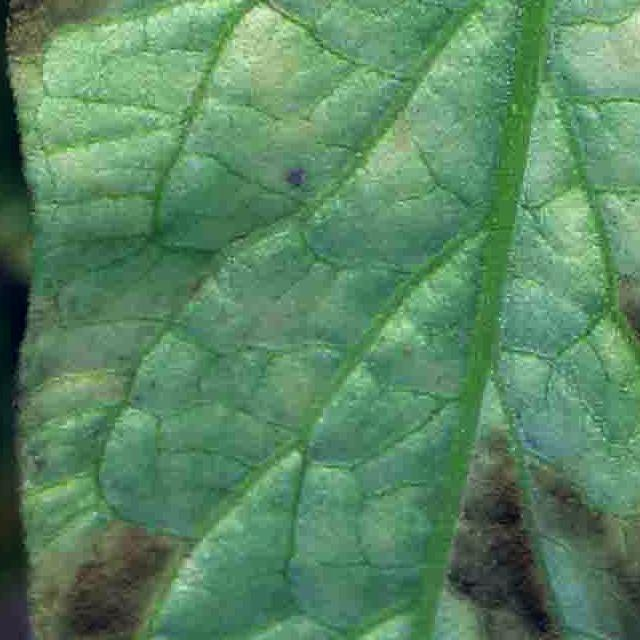Tomato mold leaf: (8, 0, 640, 640)
